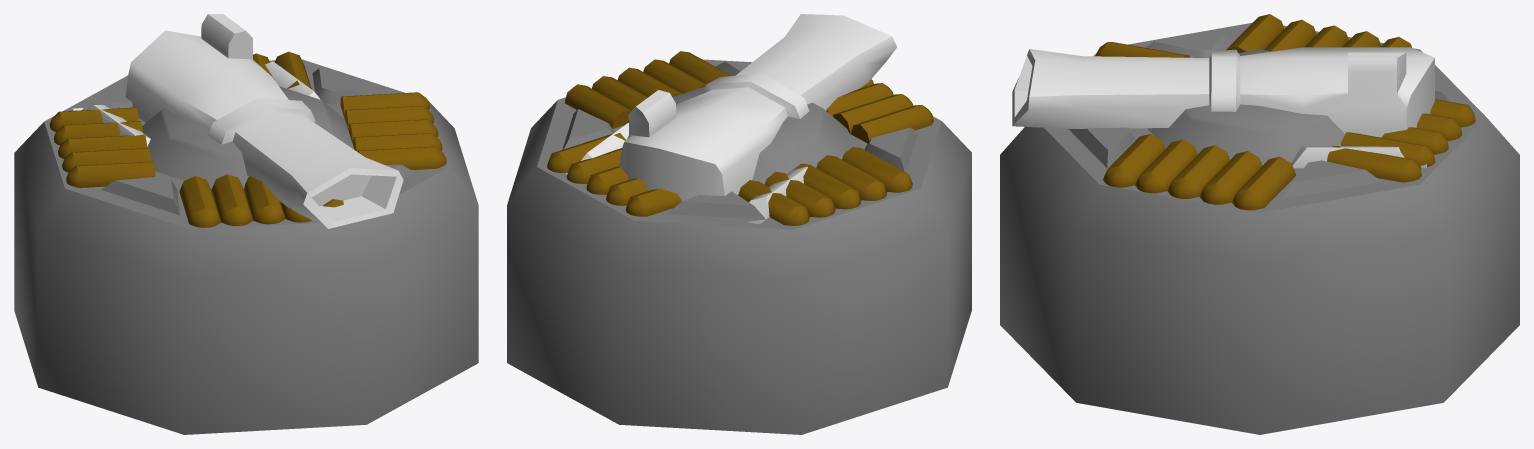
File: partShooter.fbx
3 views of the same model, side by side, from view 1: azimuth 30°, elevation 25°; view 2: azimuth 150°, elevation 25°; view 3: azimuth 270°, elevation 25° (orthographic). The views are drawn at different scales.
Visible parts, largest first — view 1: meshAmmo, meshShooter; view 2: meshAmmo, meshShooter; view 3: meshAmmo, meshShooter.
Part boxes in pixels (box(x1,y1,x2,y2)): meshAmmo: box(14, 51, 478, 434); meshShooter: box(72, 14, 403, 228); meshAmmo: box(507, 51, 971, 434); meshShooter: box(565, 14, 896, 224); meshAmmo: box(1000, 14, 1519, 434); meshShooter: box(1012, 47, 1434, 168).
Size of the model in its own units: 201 by 123 by 201.
